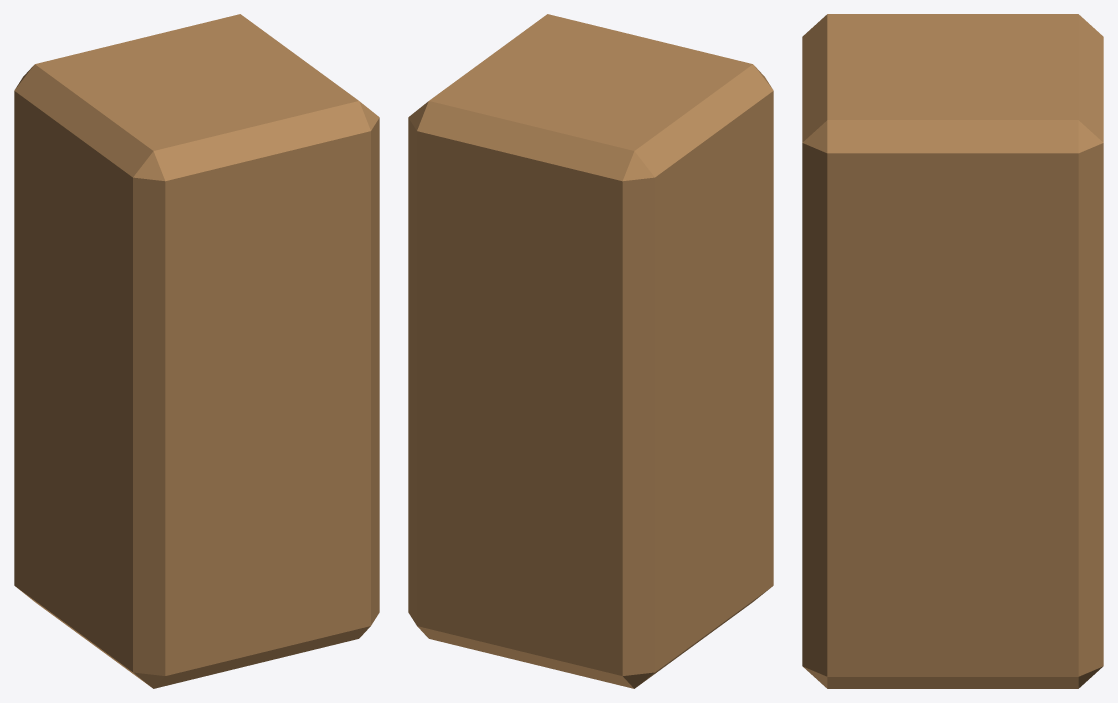
File: pilier_bois_fut.glb
3 views of the same model, side by side, from view 1: azimuth 30°, elevation 25°; view 2: azimuth 150°, elevation 25°; view 3: azimuth 270°, elevation 25° (orthographic). The views are drawn at different scales.
Parts seen in each view (by area): view 1: pilier_bois_fut_planche.002; view 2: pilier_bois_fut_planche.002; view 3: pilier_bois_fut_planche.002.
Part boxes in pixels (<box>): pilier_bois_fut_planche.002: <box>14,14,379,688</box>; pilier_bois_fut_planche.002: <box>408,14,773,688</box>; pilier_bois_fut_planche.002: <box>802,14,1103,688</box>.
Size of the model in its own units: 0.24 by 0.5 by 0.24.
